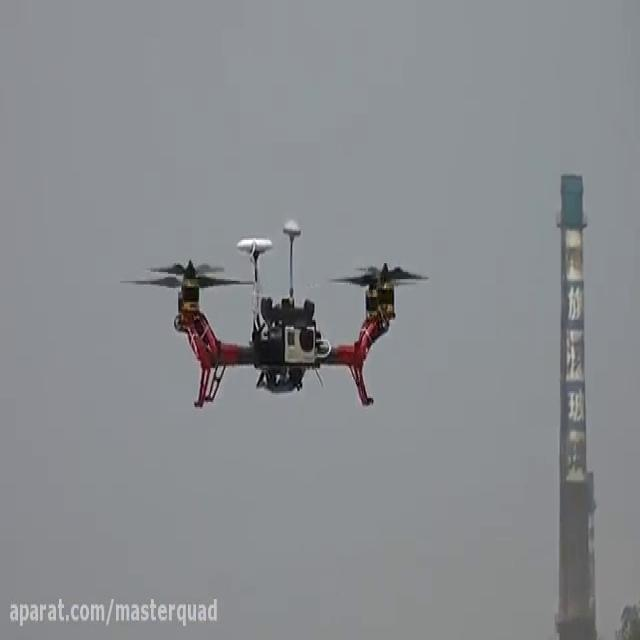drone: (118, 215, 429, 411)
